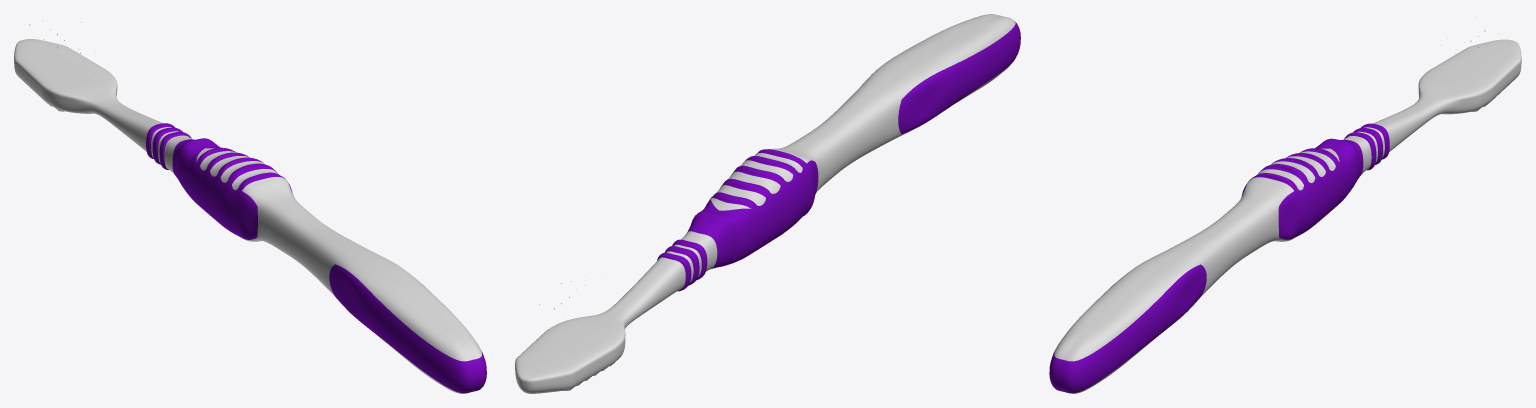
File: brush.gltf
3 renders of one model, left to right at view 1: azimuth 30°, elevation 25°; view 2: azimuth 150°, elevation 25°; view 3: azimuth 330°, elevation 25°, orthographic. The views are drawn at different scales.
Visible parts, largest first — view 1: Box001; view 2: Box001; view 3: Box001.
Part boxes in pixels (box(x1,y1,x2,y2)): Box001: box(14, 39, 486, 393); Box001: box(515, 14, 1020, 393); Box001: box(1049, 39, 1521, 393).
Size of the model in its own units: 14.33 by 14.7 by 173.
